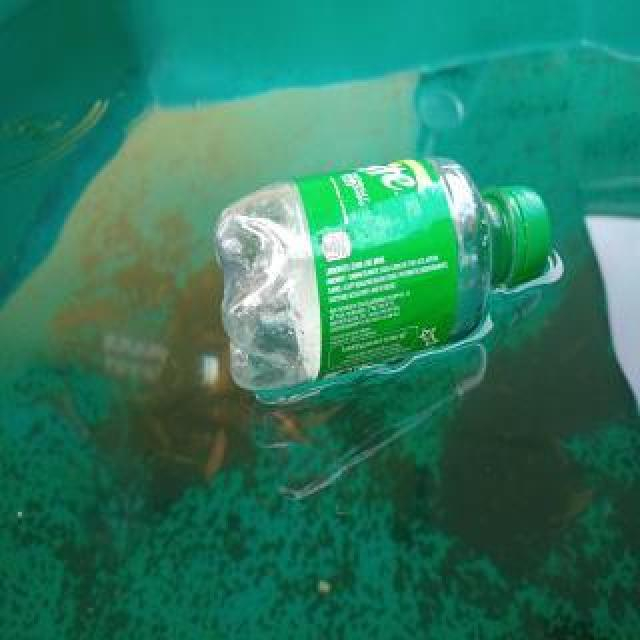Bottle: (209, 150, 567, 400)
